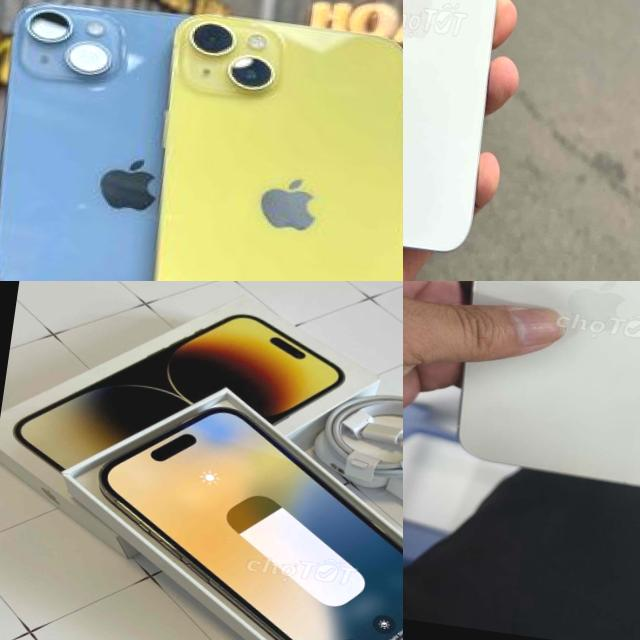scratch: (618, 478, 638, 486)
